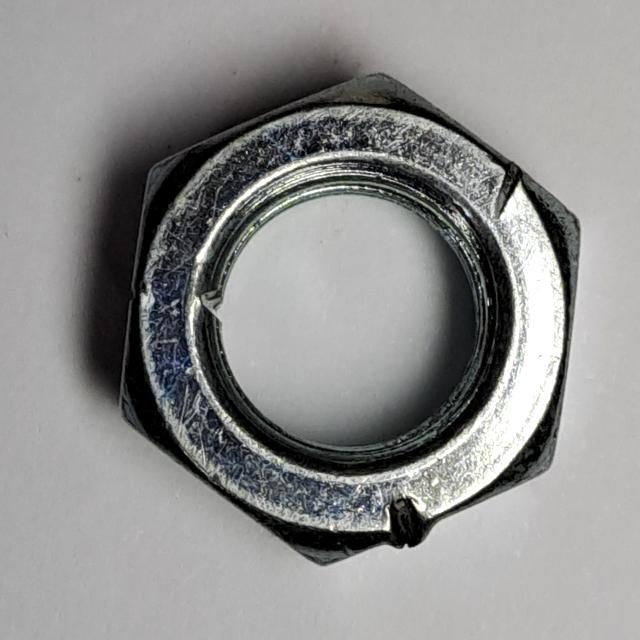Scratches: (109, 62, 591, 580)
